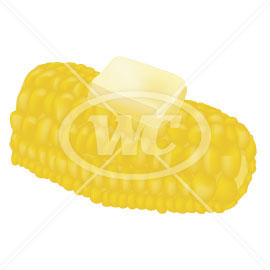corn: (10, 60, 257, 215)
